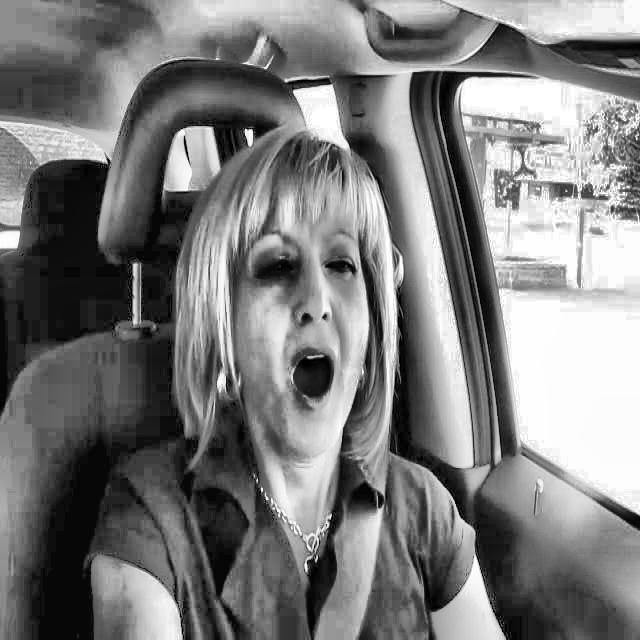open_eyes: (247, 242, 305, 290), (317, 247, 368, 291)
open_mouth: (277, 334, 351, 417)
